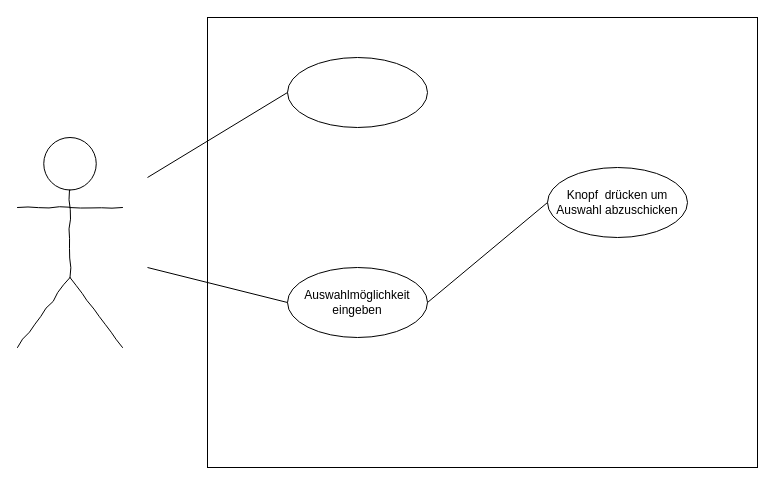
The diagram is 775 pixels wide and 485 high, and some of its shapes have lost their labels. Each missing label, with the box of its shape:
Actor: (16, 136, 122, 348)
Text lesen: (286, 56, 428, 128)
